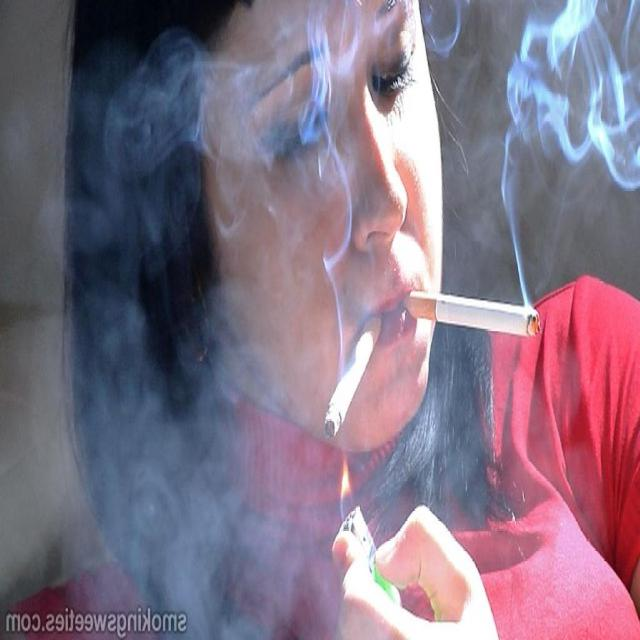smoking: (230, 165, 577, 556)
